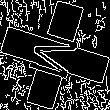M_E: (24, 26, 86, 84)
